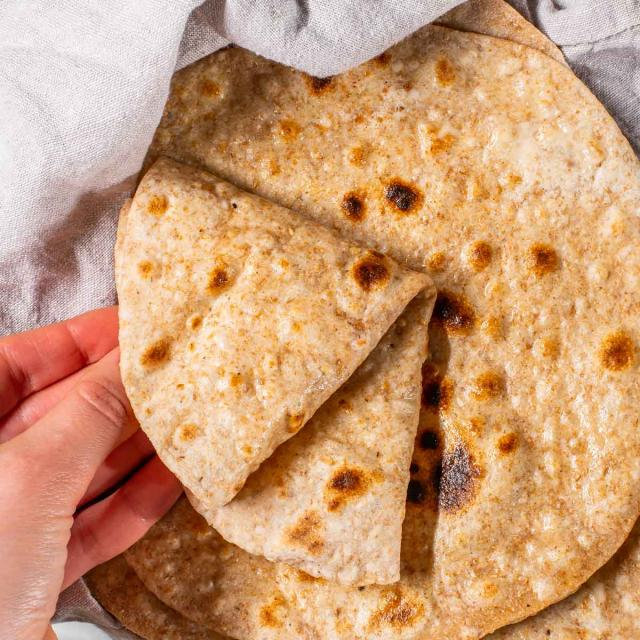ROTI: (151, 25, 639, 620), (116, 159, 435, 585), (89, 499, 484, 639), (493, 531, 639, 639)
